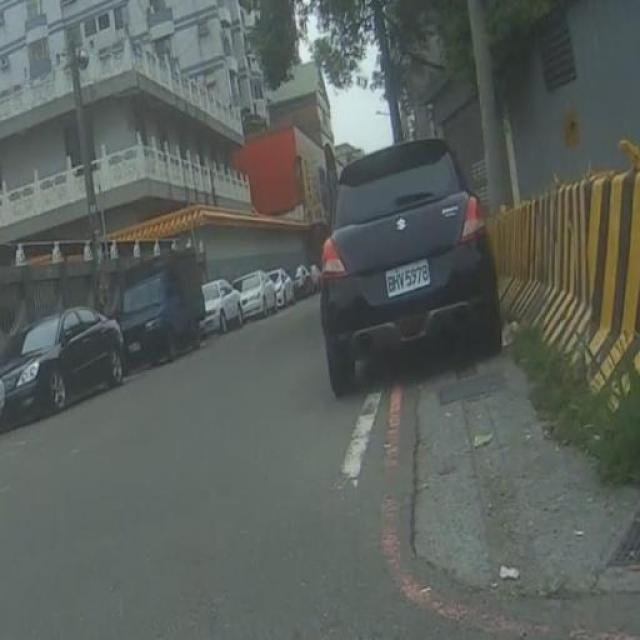Legalparking: (0, 244, 320, 470), (323, 149, 526, 411)
